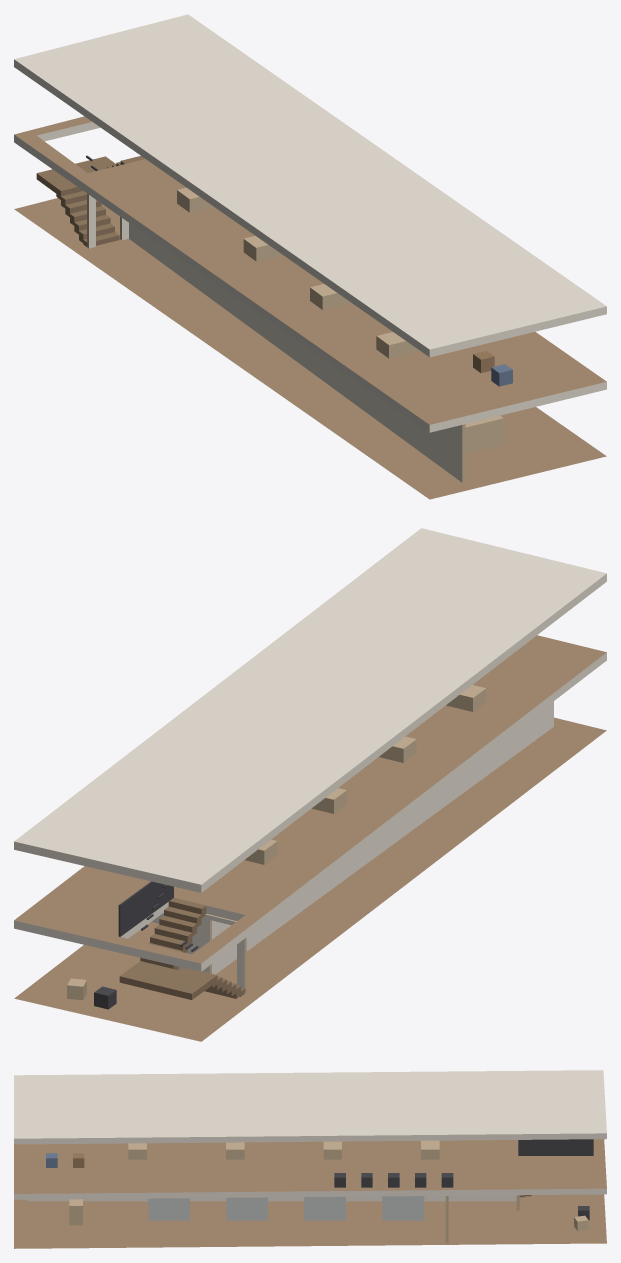
Rendered from interior.glb.
The picture shows the model from 3 angles, top to bottom: view 1: azimuth 30°, elevation 25°; view 2: azimuth 150°, elevation 25°; view 3: azimuth 270°, elevation 25°; orthographic projection. The views are drawn at different scales.
Visible parts, largest first — view 1: slabs, partitions, coarse-s1, stair, coarse-s0; view 2: slabs, partitions, stair, coarse-s1, coarse-s0; view 3: slabs, coarse-s0, coarse-s1, partitions, stair.
Part boxes in pixels (x1,y1,x2,y2): slabs: [14, 14, 606, 499]; partitions: [87, 193, 465, 482]; coarse-s1: [177, 187, 512, 386]; stair: [36, 155, 144, 247]; coarse-s0: [465, 415, 503, 453]; slabs: [14, 528, 606, 1041]; partitions: [151, 701, 553, 993]; stair: [118, 881, 245, 999]; coarse-s1: [245, 685, 486, 864]; coarse-s0: [67, 978, 116, 1009]; slabs: [14, 1070, 606, 1248]; coarse-s0: [69, 1196, 589, 1230]; coarse-s1: [46, 1140, 453, 1187]; partitions: [27, 1195, 519, 1243]; stair: [518, 1139, 593, 1197].
Size of the model in its own units: 6.65 by 5 by 24.31.
